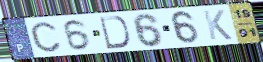6: (131, 12, 165, 48), (169, 9, 202, 46), (62, 18, 93, 52)
C: (29, 21, 63, 54)
D: (98, 15, 132, 50)
K: (201, 8, 234, 41)
